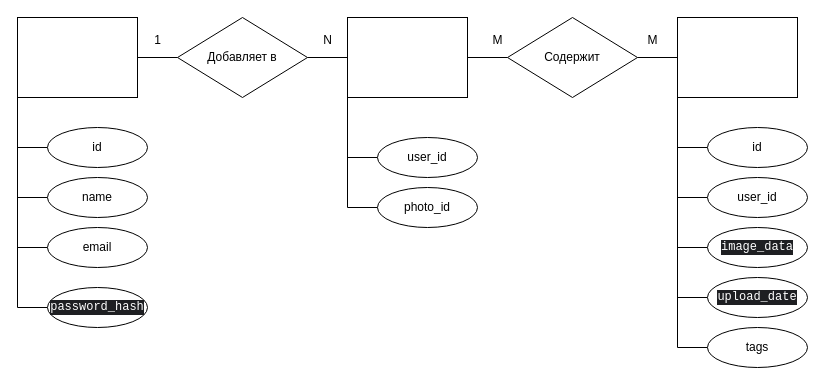
This 825x385 diagram has some shape labels left out. The shapes that lost their labels are listed below. From the top down, each one's centre as x and y in pixels, then its label:
At (x=77, y=57): "Пользователь".
At (x=407, y=57): "Избранное".
At (x=737, y=57): "Фото".
